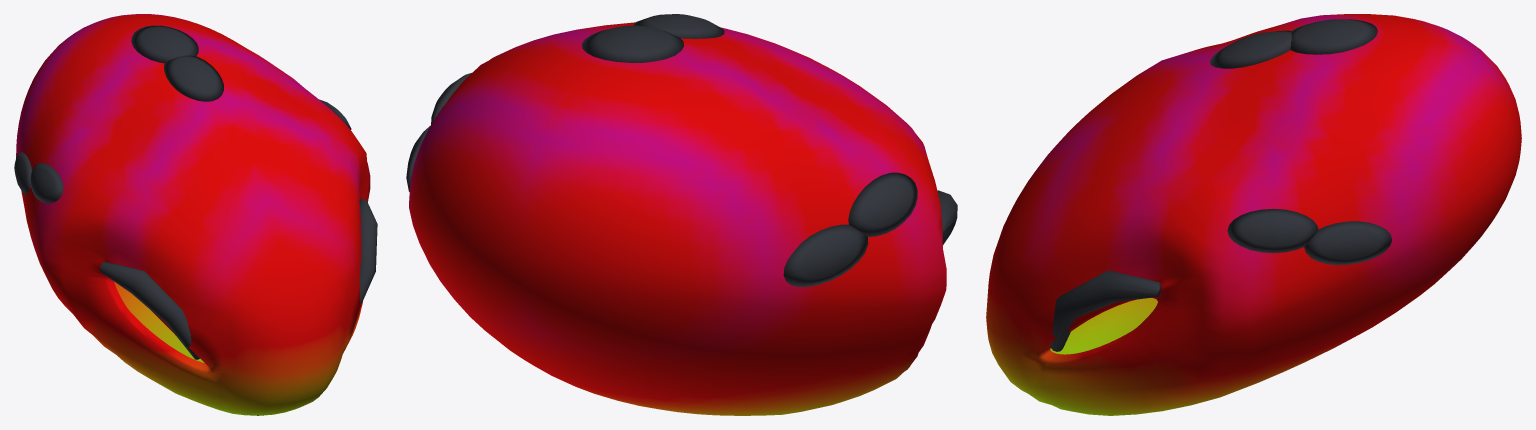
The model's file is GXR_HEAD_02_BEAST.glb.
The picture shows the model from 3 angles, left to right: view 1: azimuth 30°, elevation 25°; view 2: azimuth 150°, elevation 25°; view 3: azimuth 270°, elevation 25°; orthographic projection. The views are drawn at different scales.
Visible parts, largest first — view 1: Mesh_HeadSurface_BEAST_Export, Mesh_Supraorbital_ridge.002_Export, Mesh_Organic_cranial_scute.006_Export, Mesh_Organic_cranial_scute.007_Export, Mesh_Supraorbital_ridge.003_Export, Mesh_Organic_cranial_scute.008_Export, Mesh_Organic_cranial_scute.009_Export; view 2: Mesh_HeadSurface_BEAST_Export, Mesh_Organic_cranial_scute.009_Export, Mesh_Organic_cranial_scute.008_Export, Mesh_Organic_cranial_scute.007_Export, Mesh_Organic_cranial_scute.006_Export, Mesh_Supraorbital_ridge.002_Export; view 3: Mesh_HeadSurface_BEAST_Export, Mesh_Supraorbital_ridge.003_Export, Mesh_Organic_cranial_scute.010_Export, Mesh_Organic_cranial_scute.011_Export, Mesh_Organic_cranial_scute.007_Export, Mesh_Organic_cranial_scute.006_Export.
Part boxes in pixels (bbox=[...]): Mesh_HeadSurface_BEAST_Export: bbox=[16, 14, 370, 415]; Mesh_Supraorbital_ridge.002_Export: bbox=[100, 261, 199, 359]; Mesh_Organic_cranial_scute.006_Export: bbox=[164, 55, 223, 101]; Mesh_Organic_cranial_scute.007_Export: bbox=[131, 25, 198, 63]; Mesh_Supraorbital_ridge.003_Export: bbox=[359, 199, 377, 304]; Mesh_Organic_cranial_scute.008_Export: bbox=[30, 163, 63, 203]; Mesh_Organic_cranial_scute.009_Export: bbox=[14, 152, 31, 194]; Mesh_HeadSurface_BEAST_Export: bbox=[409, 22, 946, 415]; Mesh_Organic_cranial_scute.009_Export: bbox=[783, 224, 868, 286]; Mesh_Organic_cranial_scute.008_Export: bbox=[848, 172, 917, 236]; Mesh_Organic_cranial_scute.007_Export: bbox=[582, 25, 683, 62]; Mesh_Organic_cranial_scute.006_Export: bbox=[633, 14, 724, 38]; Mesh_Supraorbital_ridge.002_Export: bbox=[937, 190, 957, 244]; Mesh_HeadSurface_BEAST_Export: bbox=[986, 14, 1521, 415]; Mesh_Supraorbital_ridge.003_Export: bbox=[1050, 270, 1161, 351]; Mesh_Organic_cranial_scute.010_Export: bbox=[1227, 208, 1318, 253]; Mesh_Organic_cranial_scute.011_Export: bbox=[1304, 221, 1391, 265]; Mesh_Organic_cranial_scute.007_Export: bbox=[1290, 19, 1377, 54]; Mesh_Organic_cranial_scute.006_Export: bbox=[1210, 30, 1291, 68].
Bounding box in the file's own units: 0.5824 × 0.5103 × 0.6655.
